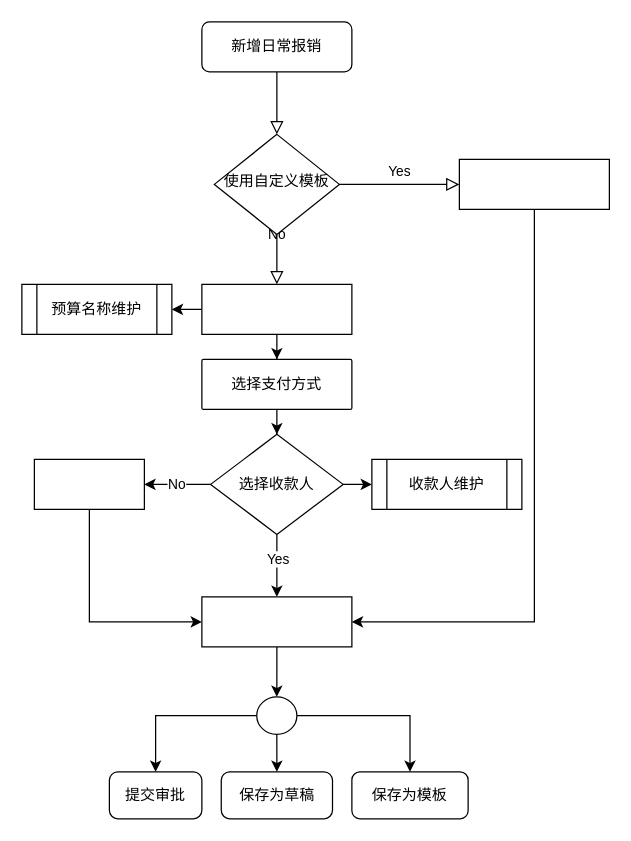
Some shapes in this 631 by 841 pixel diagram are drawn without their labels. Each missing label, with the centre of its shape:
上传发票&金额&事由: the point at 276,621
填写收款人信息: the point at 88,483
选择自定义模板: the point at 533,183
选择部门&预算名称: the point at 276,308
